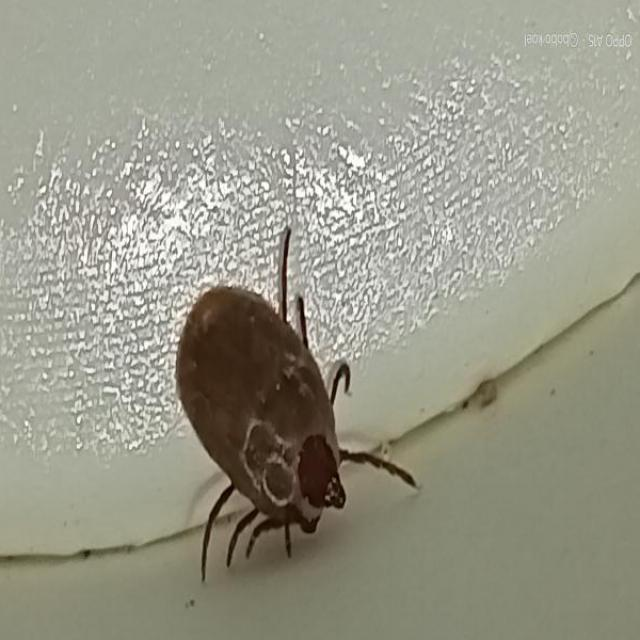Rhipicephalus Sanguineus-F-Fed: (175, 226, 417, 589)
